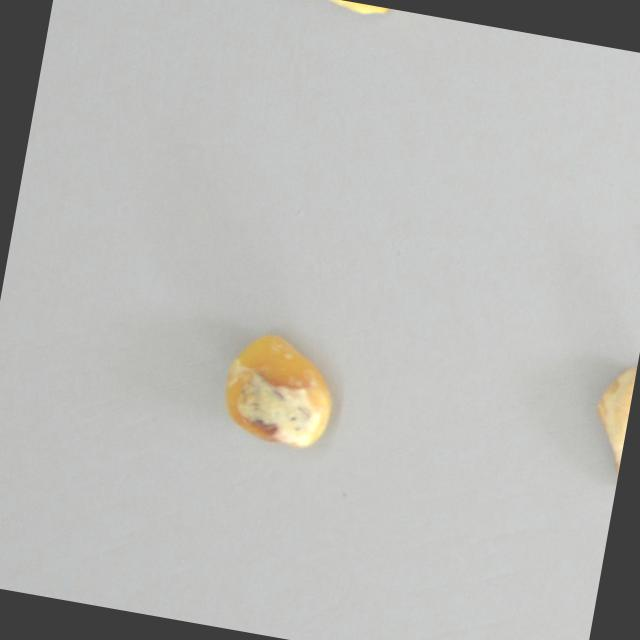dañado: (207, 317, 347, 465), (575, 354, 638, 495), (305, 0, 409, 28)
